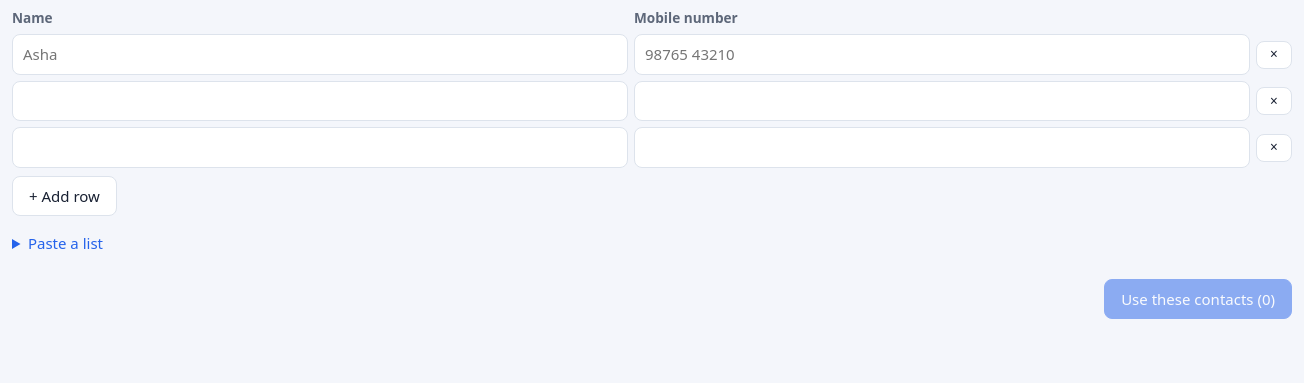
Test case: typed contacts › shows the server's error
The image size is (1304, 383).
In the field named "Name 1": (320, 55) [12,34,628,75], type "Only a name"
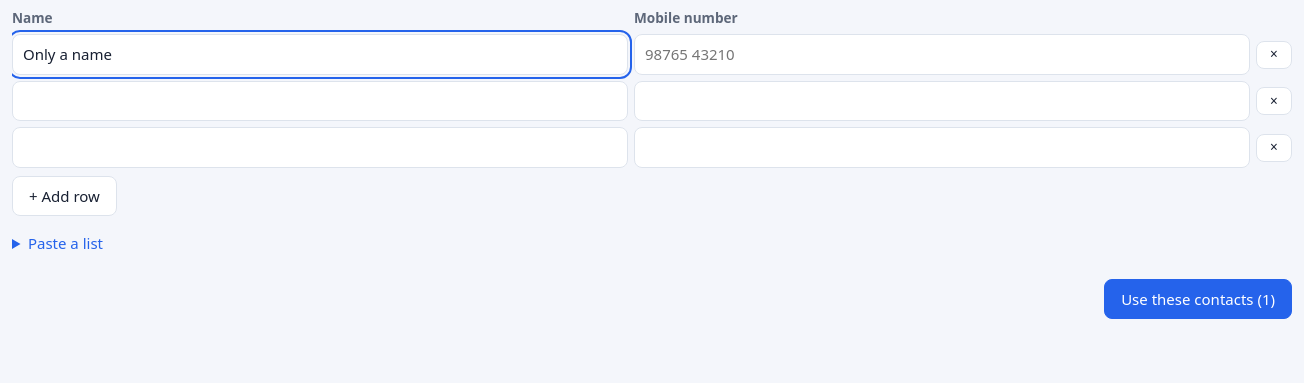
Click the button "Use these contacts (1)": (1198, 299) [1104,279,1292,319]
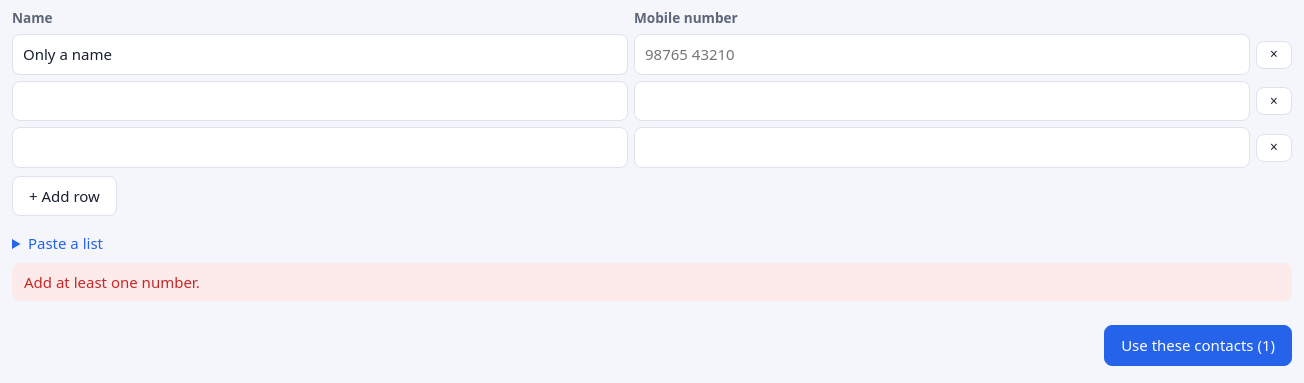
Expected: the message reads "Add at least one number.", [24,272,200,292]
